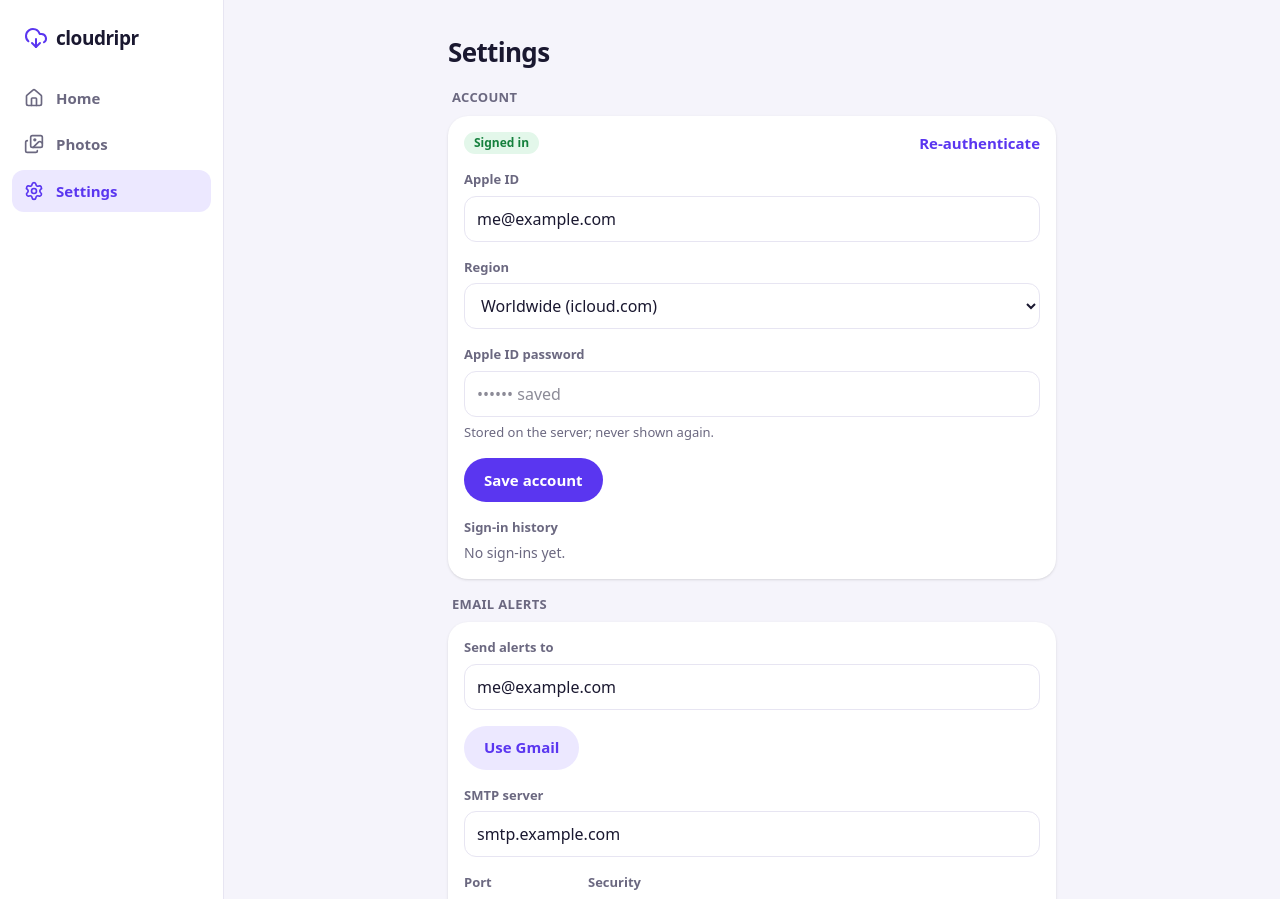
Test case: account save omits password when not typed
Replace the text in the field labelled "Apple ID" with "new@example.com" at (752, 218), box [464,196,1040,242]
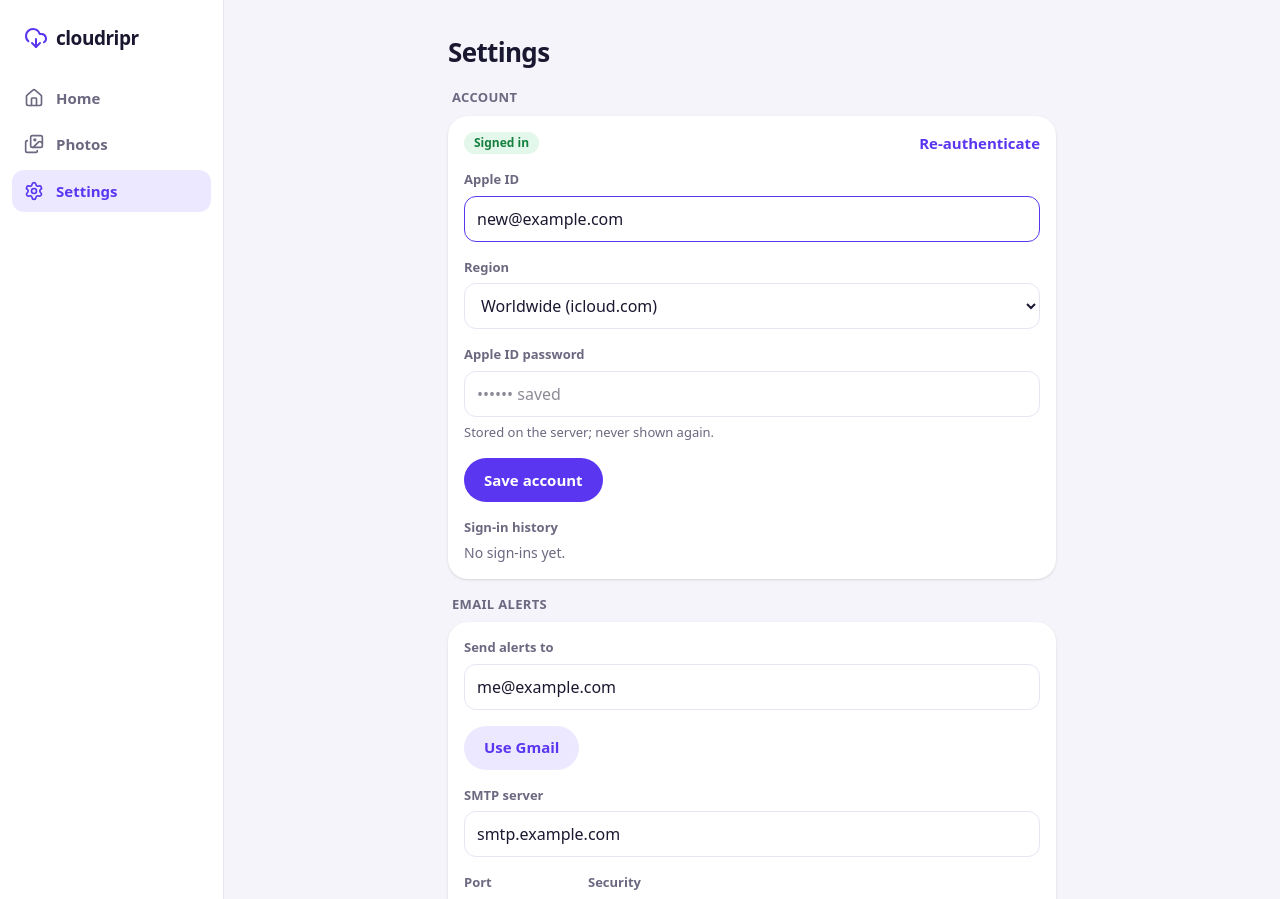
Click the button "Save account" at (533, 480), box [464,458,603,502]
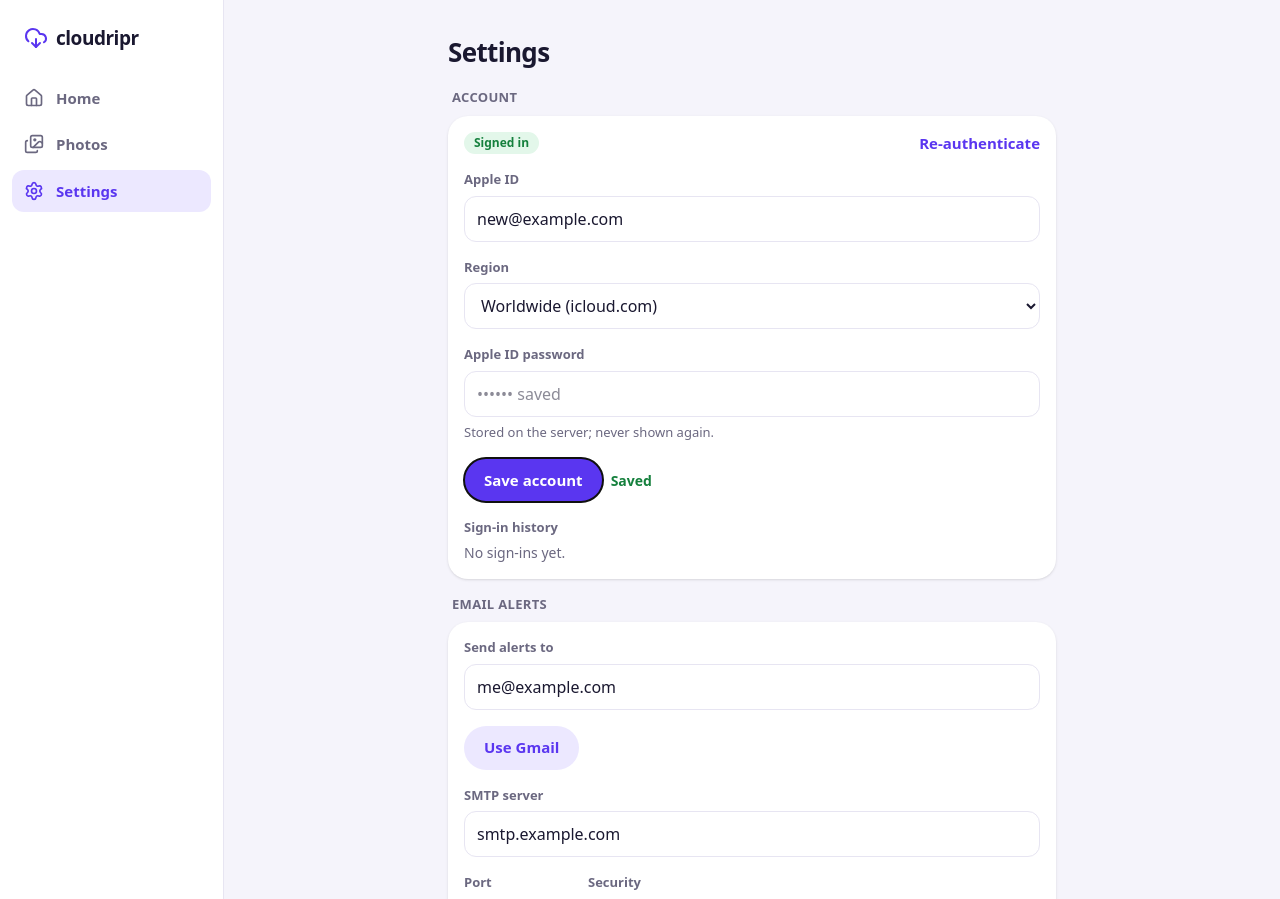
Check: the text "Saved" is shown, box [611,470,652,490]
